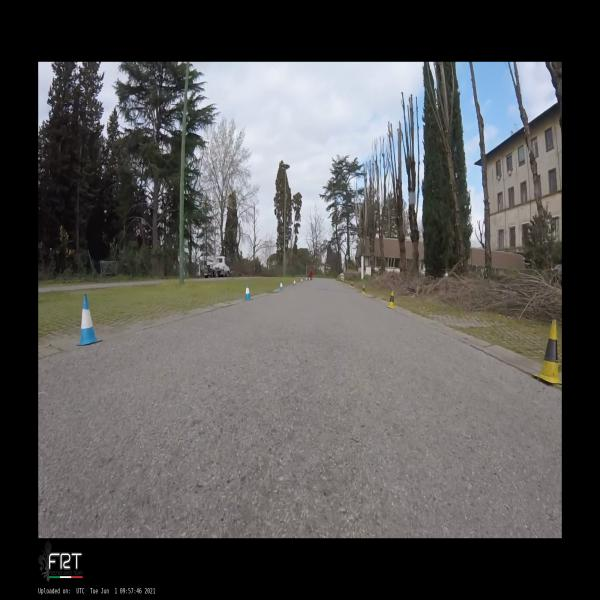blue_cone: (77, 294, 102, 346), (244, 284, 251, 300), (280, 282, 283, 290), (293, 280, 296, 285)
yellow_cone: (533, 320, 562, 383), (387, 292, 395, 308), (362, 284, 365, 294), (350, 282, 352, 288), (345, 280, 347, 285)
